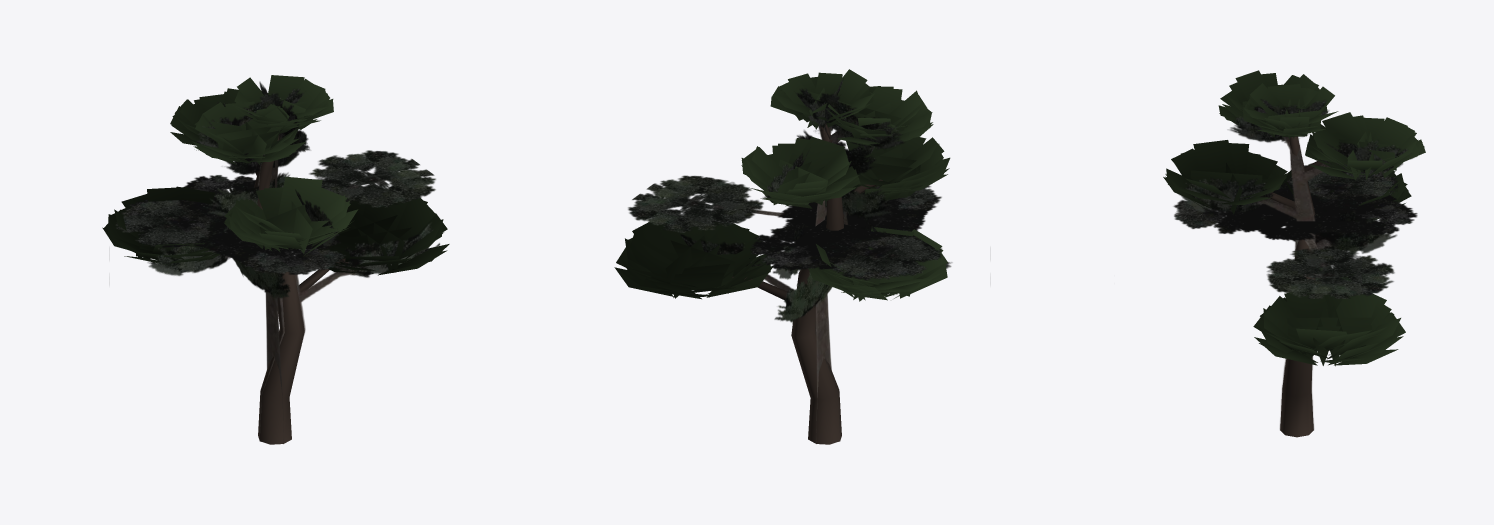
File: veg.tree.matsu.mo.glb
3 views of the same model, side by side, from view 1: azimuth 30°, elevation 25°; view 2: azimuth 150°, elevation 25°; view 3: azimuth 270°, elevation 25° (orthographic). The views are drawn at different scales.
Visible parts, largest first — view 1: LOD0, IMP; view 2: LOD0, IMP; view 3: LOD0, IMP.
Part boxes in pixels (<box>): LOD0: <box>102,75,449,444</box>; IMP: <box>115,81,439,442</box>; LOD0: <box>614,69,950,444</box>; IMP: <box>628,78,952,442</box>; LOD0: <box>1163,70,1425,437</box>; IMP: <box>1173,99,1417,429</box>.
Size of what is drawn, in the model's own units: 5.01 by 4.93 by 4.77.
Materials: 3 (1 with a texture image).
